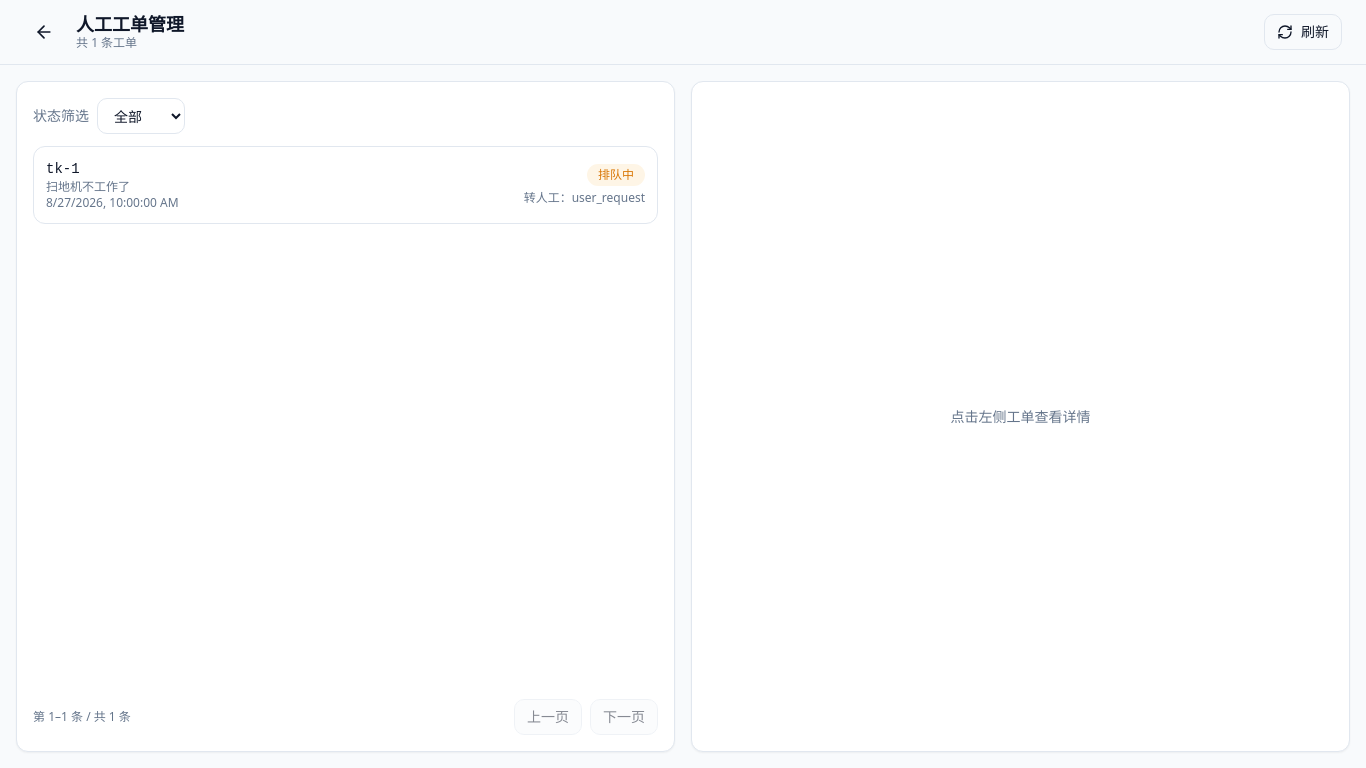
Test: AdminHandoffs 管理端 › 详情展示实时对话（用户提问与人工回复）
What coordinates should you click on to do the following:
click the text "tk-1"
I would click on:
 (63, 169)
Its box is x1=46 y1=161 x2=80 y2=177.
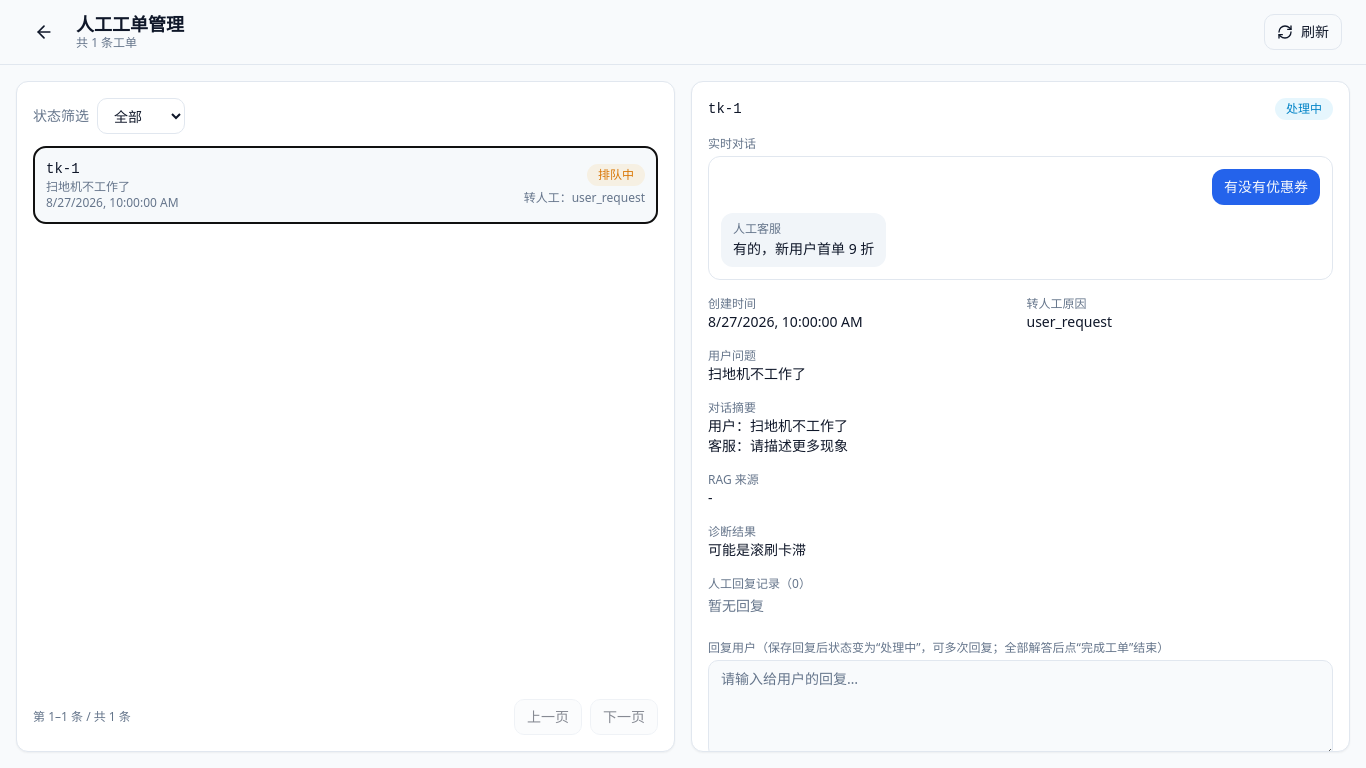
Expected: the text "实时对话" is shown, x1=708 y1=135 x2=756 y2=152
Expected: the text "有没有优惠券" is shown, x1=1224 y1=177 x2=1308 y2=197
Expected: the text "有的，新用户首单 9 折" is shown, x1=733 y1=239 x2=874 y2=259
